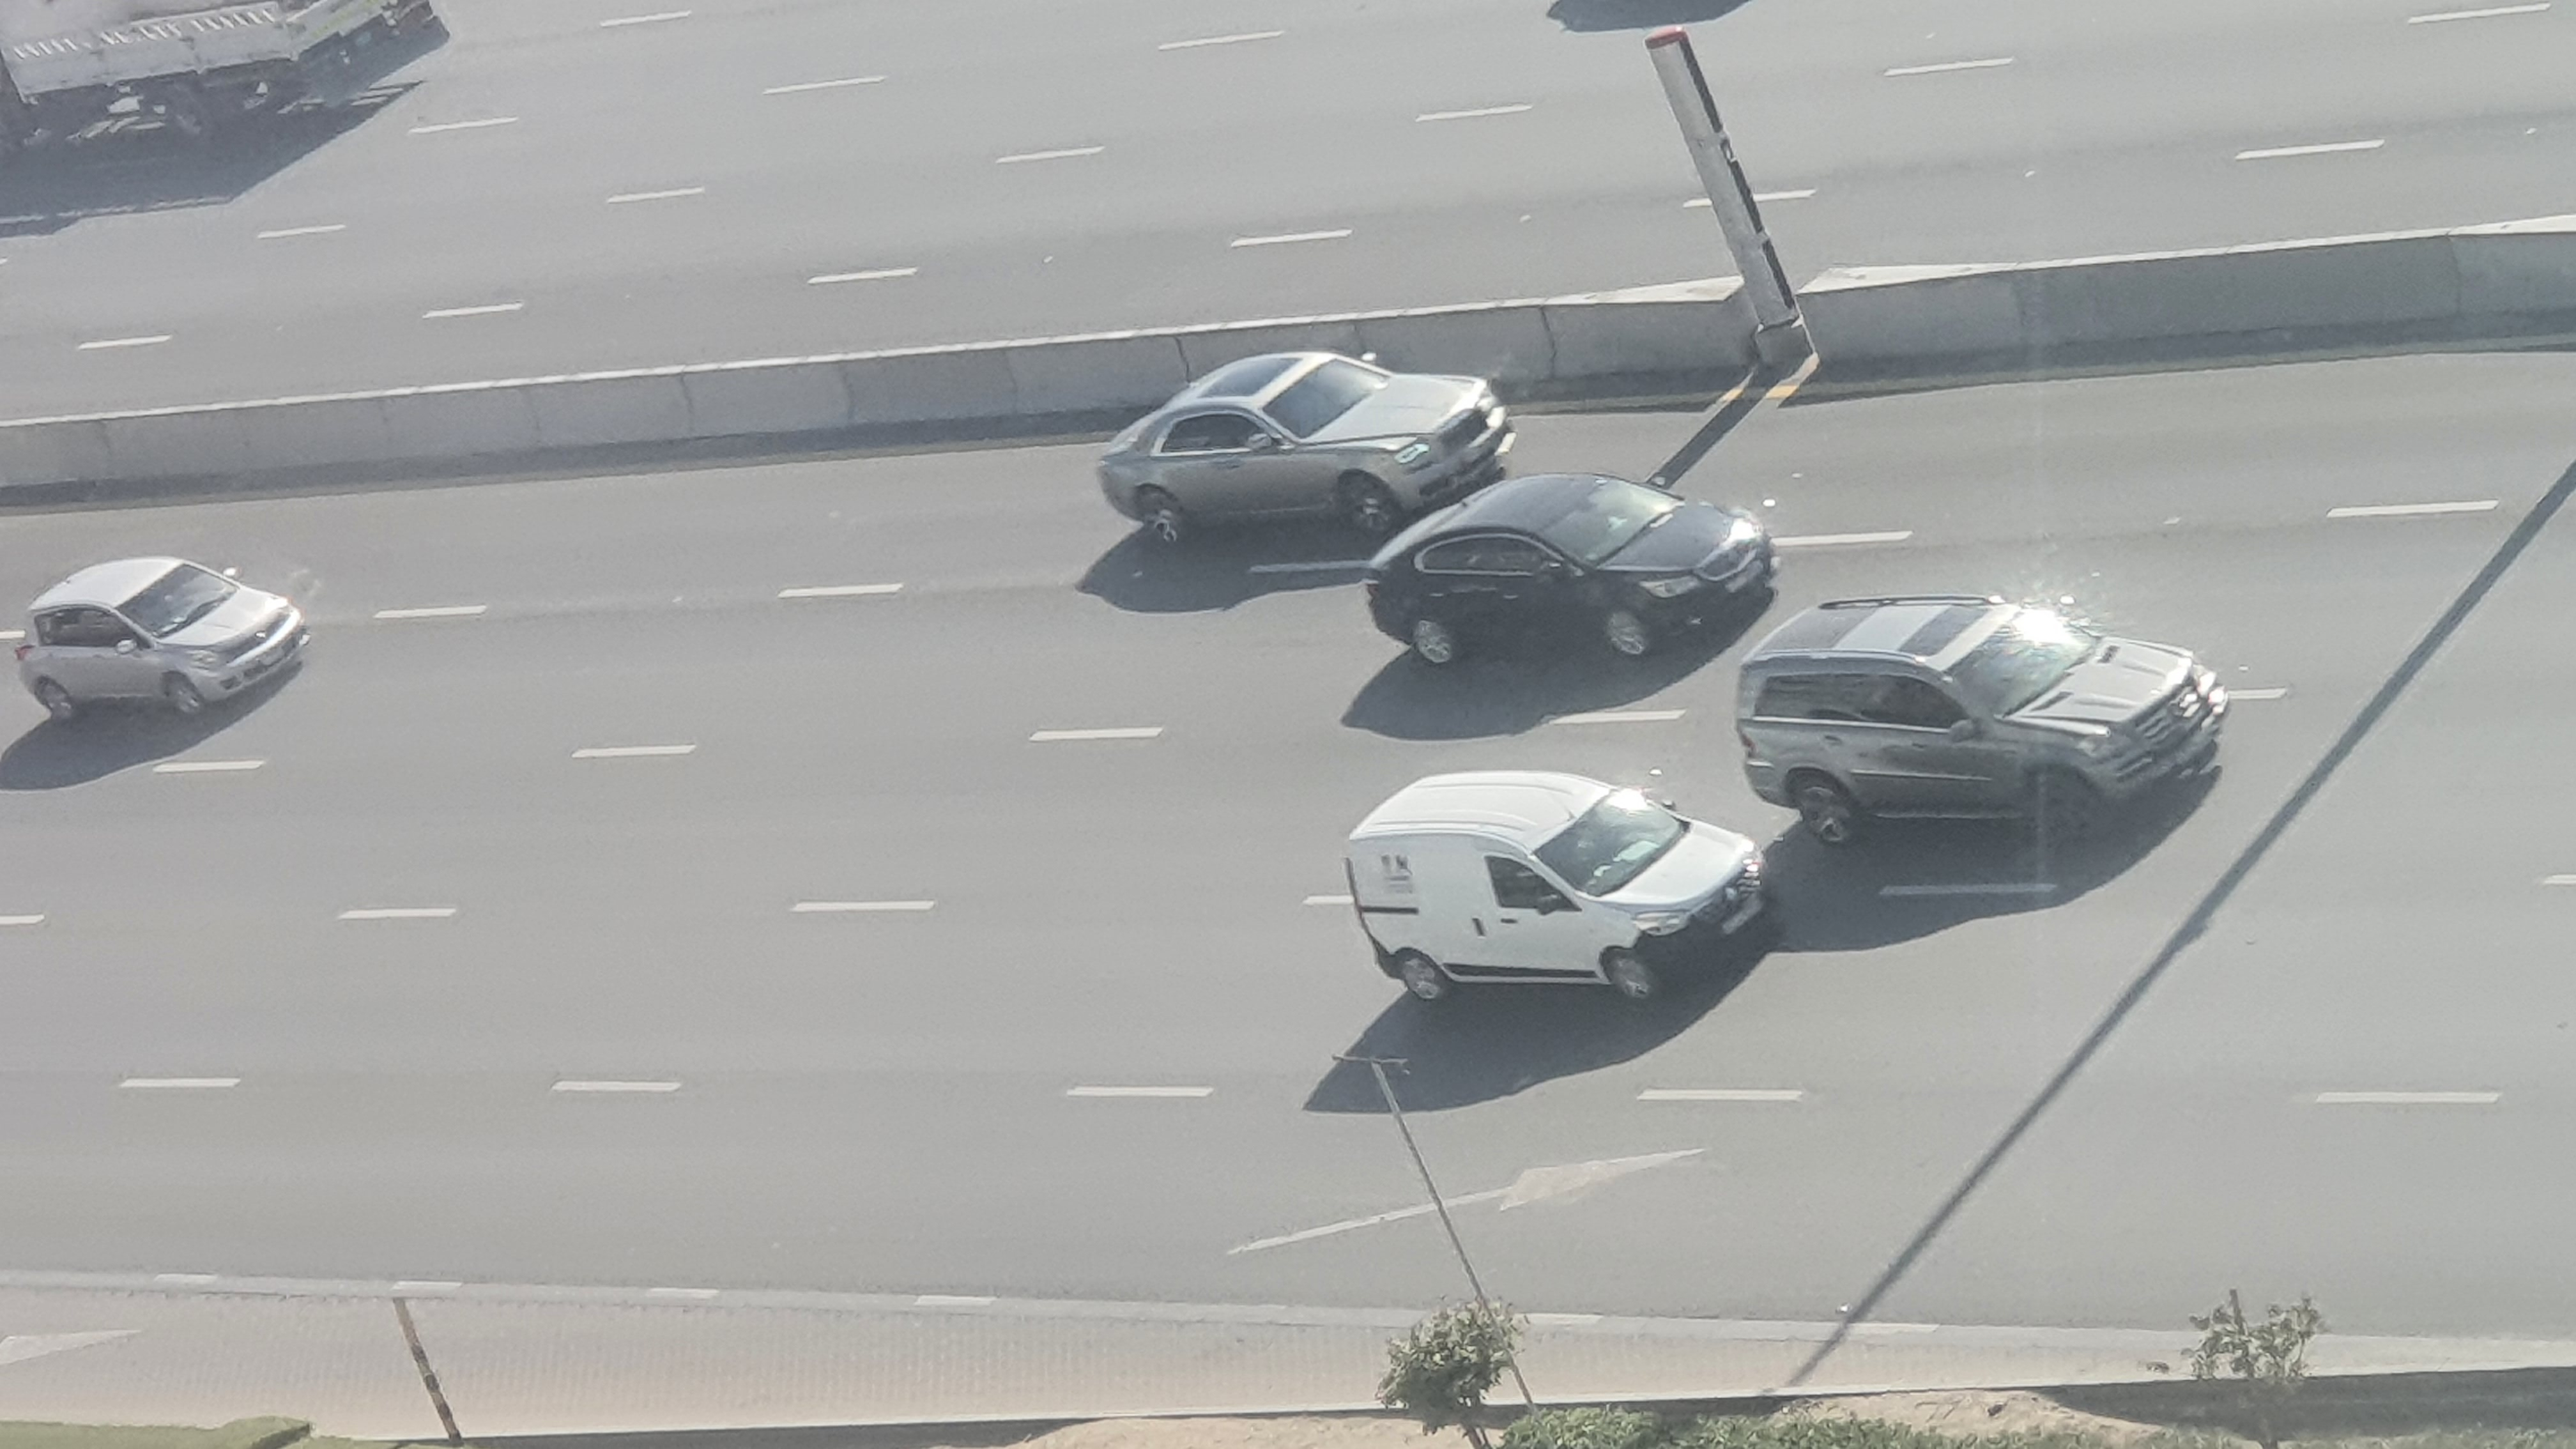NotSunroof: (0, 552, 317, 738)
Sunroof: (1734, 589, 2229, 849), (1079, 352, 1518, 541), (1362, 472, 1778, 667)
